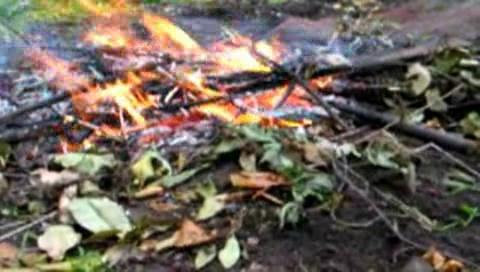fire: (69, 27, 308, 124)
